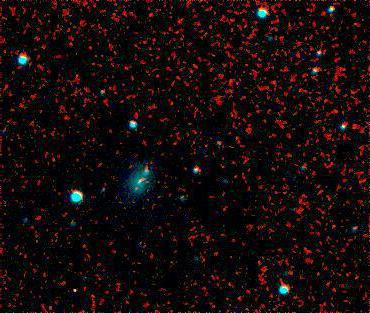star: (118, 172, 148, 202)
